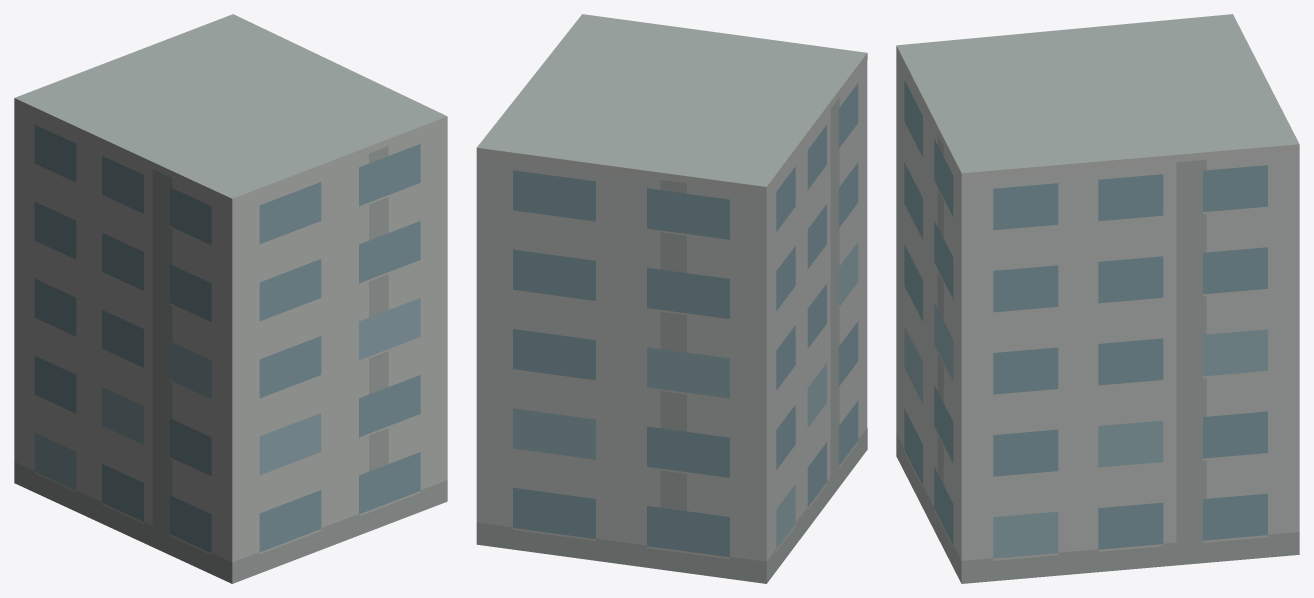
File: survey-upis-32966590.glb
The picture shows the model from 3 angles, left to right: view 1: azimuth 30°, elevation 25°; view 2: azimuth 150°, elevation 25°; view 3: azimuth 270°, elevation 25°; orthographic projection. The views are drawn at different scales.
Visible parts, largest first — view 1: survey-upis-32966590.tmp; view 2: survey-upis-32966590.tmp; view 3: survey-upis-32966590.tmp.
Part boxes in pixels (x1=…): survey-upis-32966590.tmp: x1=14, y1=14, x2=447, y2=583; survey-upis-32966590.tmp: x1=476, y1=14, x2=867, y2=583; survey-upis-32966590.tmp: x1=896, y1=14, x2=1299, y2=583.
Bounding box in the file's own units: 11.12 × 13.35 × 11.89.
